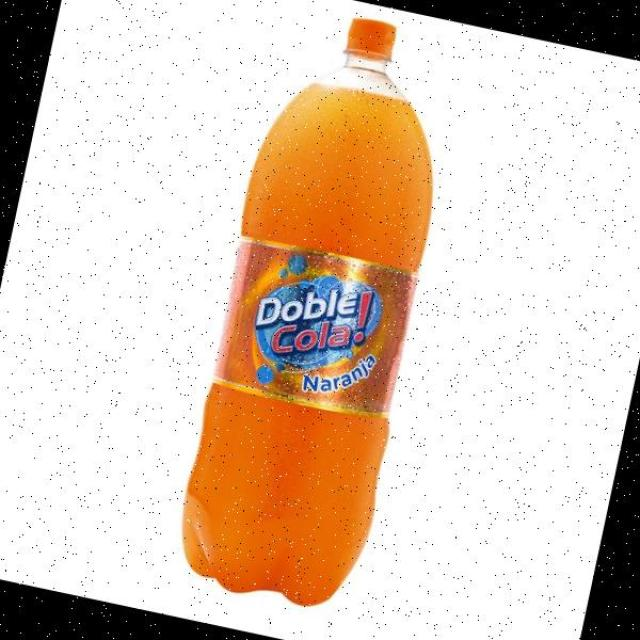doble cola naranja: (124, 0, 503, 626)
